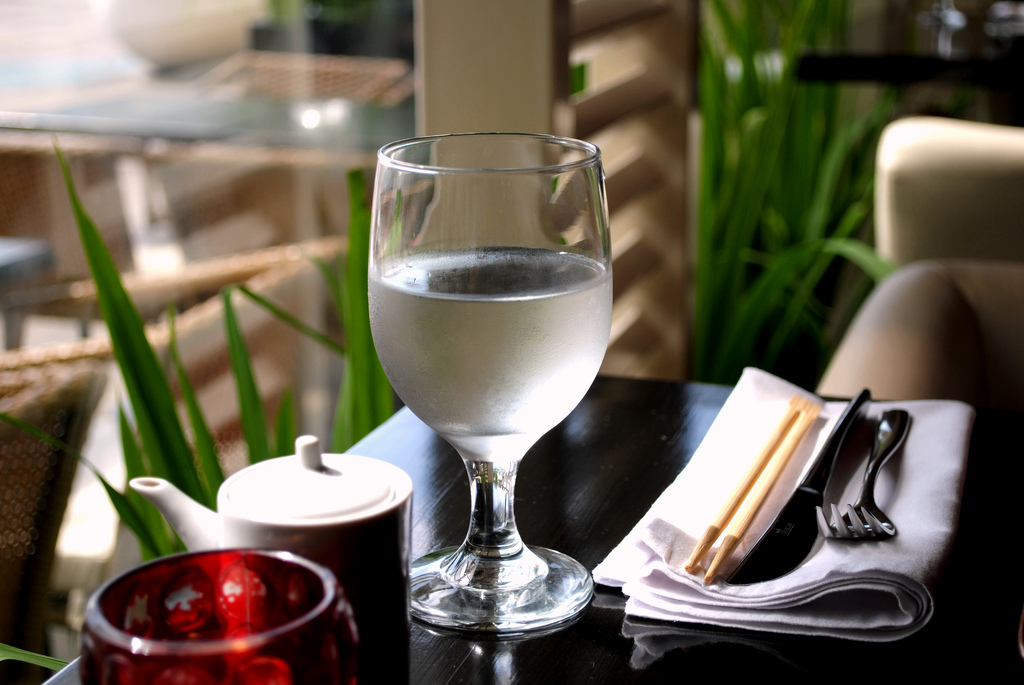glass of water: (370, 146, 620, 630)
